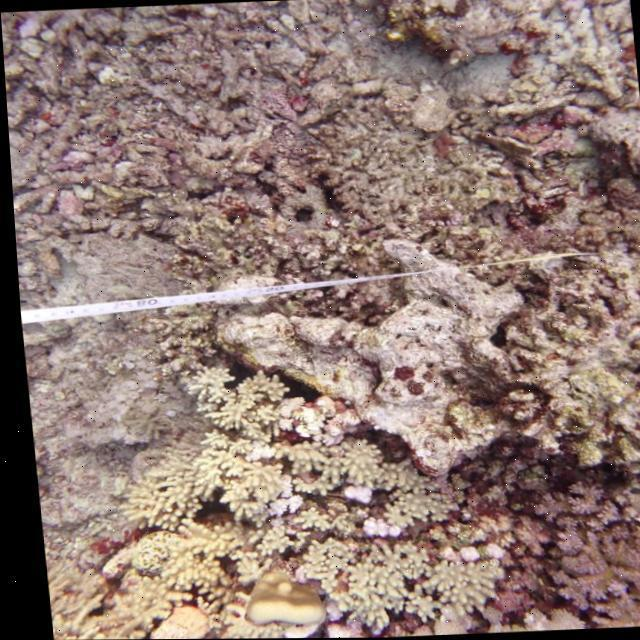Bleached Coral: (36, 547, 274, 640), (274, 532, 498, 622), (128, 439, 284, 561), (276, 428, 452, 529), (170, 354, 282, 440)
